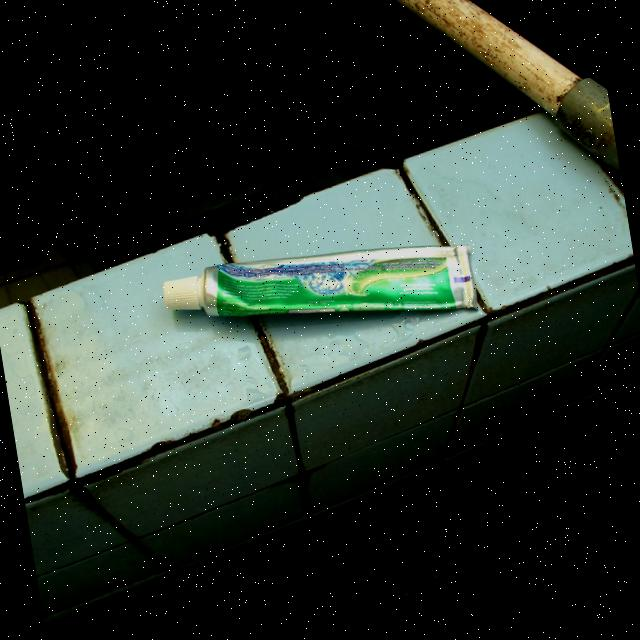Toothpaste: (146, 216, 490, 364)
